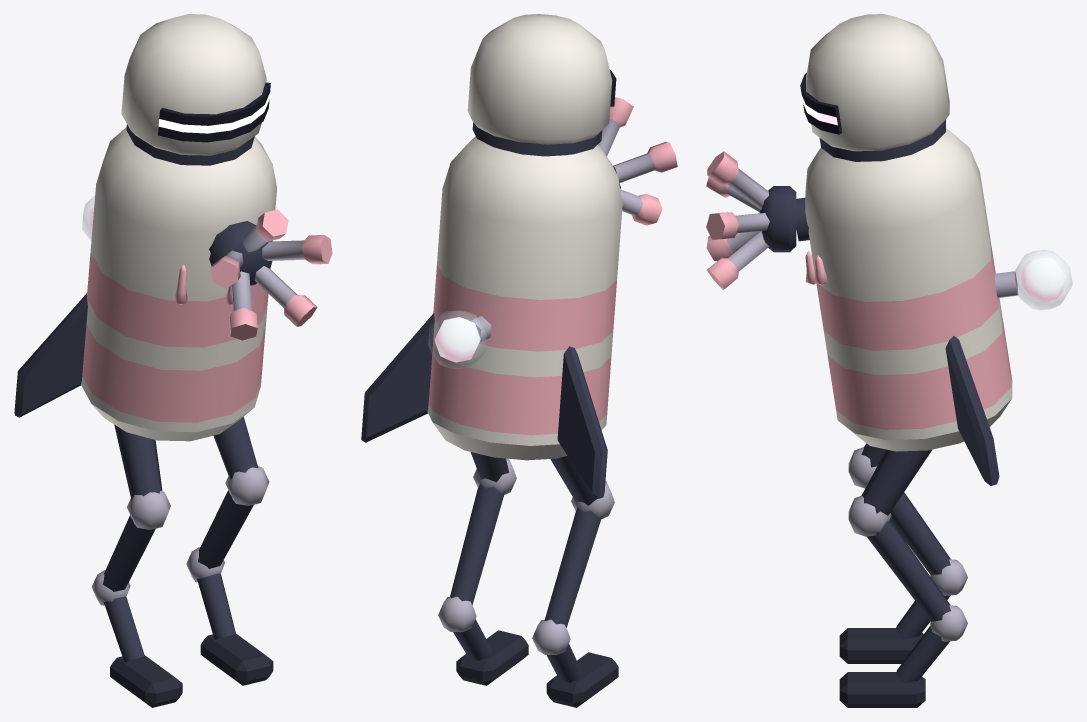
File: enemy_sprayer.glb
The picture shows the model from 3 angles, left to right: view 1: azimuth 30°, elevation 25°; view 2: azimuth 150°, elevation 25°; view 3: azimuth 270°, elevation 25°; orthographic projection.
Visible parts, largest first — view 1: Body, Leg_R, Leg_L, NozzleFan; view 2: Body, Leg_R, Leg_L, NozzleFan; view 3: Body, Leg_L, NozzleFan, Leg_R.
Boxes of the visible parts, x1,y1,x2,y2 form: Body: (14, 14, 276, 441); Leg_R: (91, 424, 182, 707); Leg_L: (186, 416, 273, 685); NozzleFan: (209, 209, 332, 340); Body: (361, 14, 622, 498); Leg_R: (532, 456, 618, 707); Leg_L: (438, 452, 528, 685); NozzleFan: (597, 97, 677, 225); Body: (796, 14, 1072, 485); Leg_L: (839, 449, 967, 707); NozzleFan: (706, 151, 796, 289); Leg_R: (839, 443, 967, 663).
Size of the model in its own units: 0.6164 by 1.6 by 0.8102.
